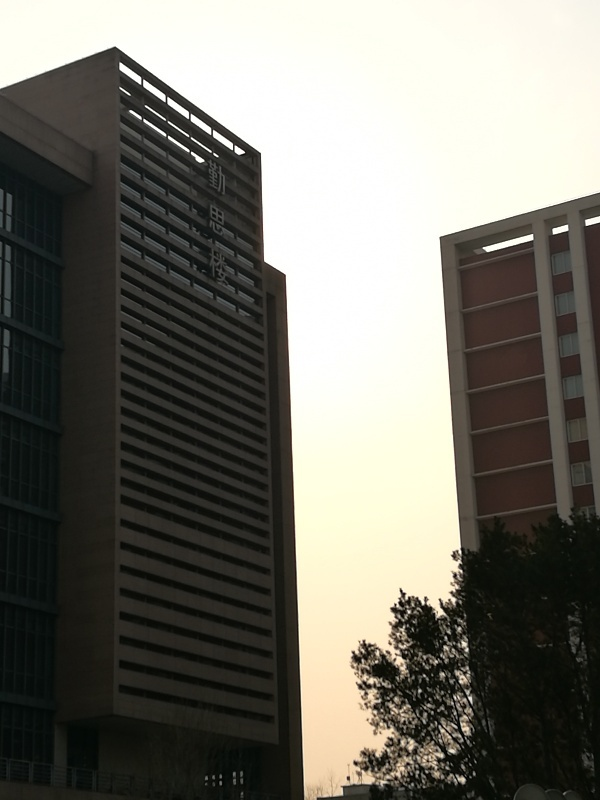text: (209, 161, 224, 286), (225, 161, 231, 286)
